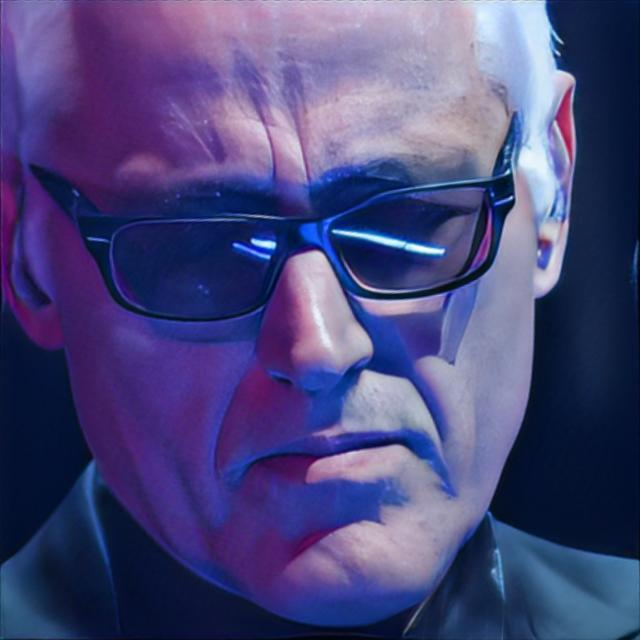anger: (66, 46, 542, 609)
